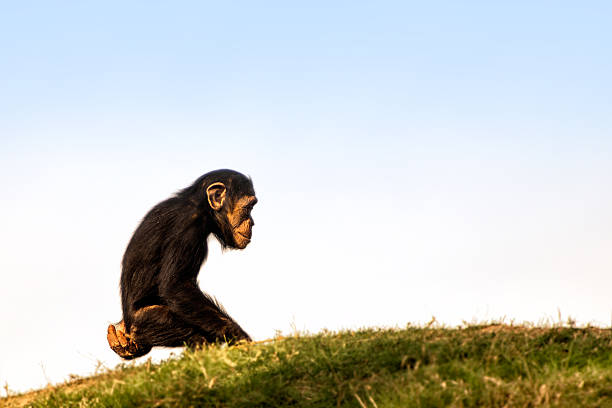chimpanzee: (197, 162, 270, 263)
